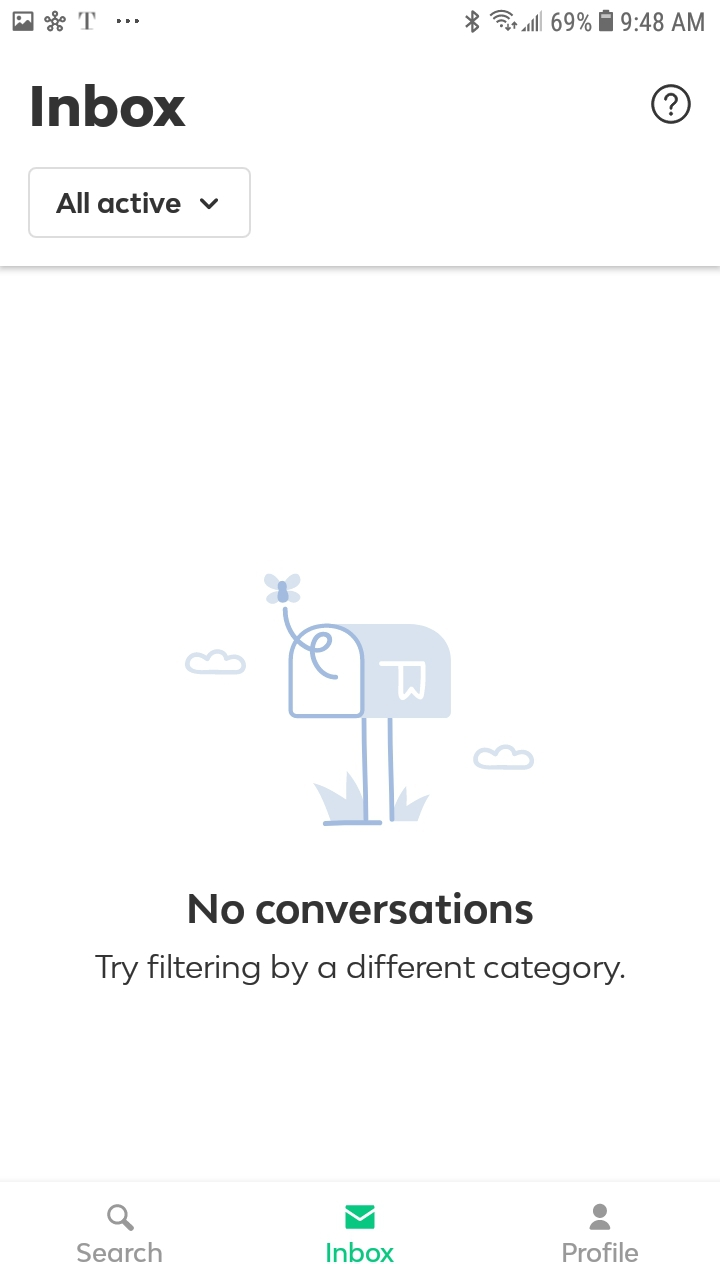Icon: (650, 84, 692, 125), (345, 1204, 376, 1230), (107, 1204, 135, 1232), (589, 1203, 611, 1231)
Image: (184, 573, 535, 827)
Text: (95, 953, 625, 986), (189, 891, 534, 925), (32, 84, 186, 129), (77, 1241, 163, 1263), (563, 1241, 639, 1263), (327, 1241, 395, 1263)
TextButton: (28, 167, 252, 239)
UpperTaskBar: (1, 1, 720, 36)
